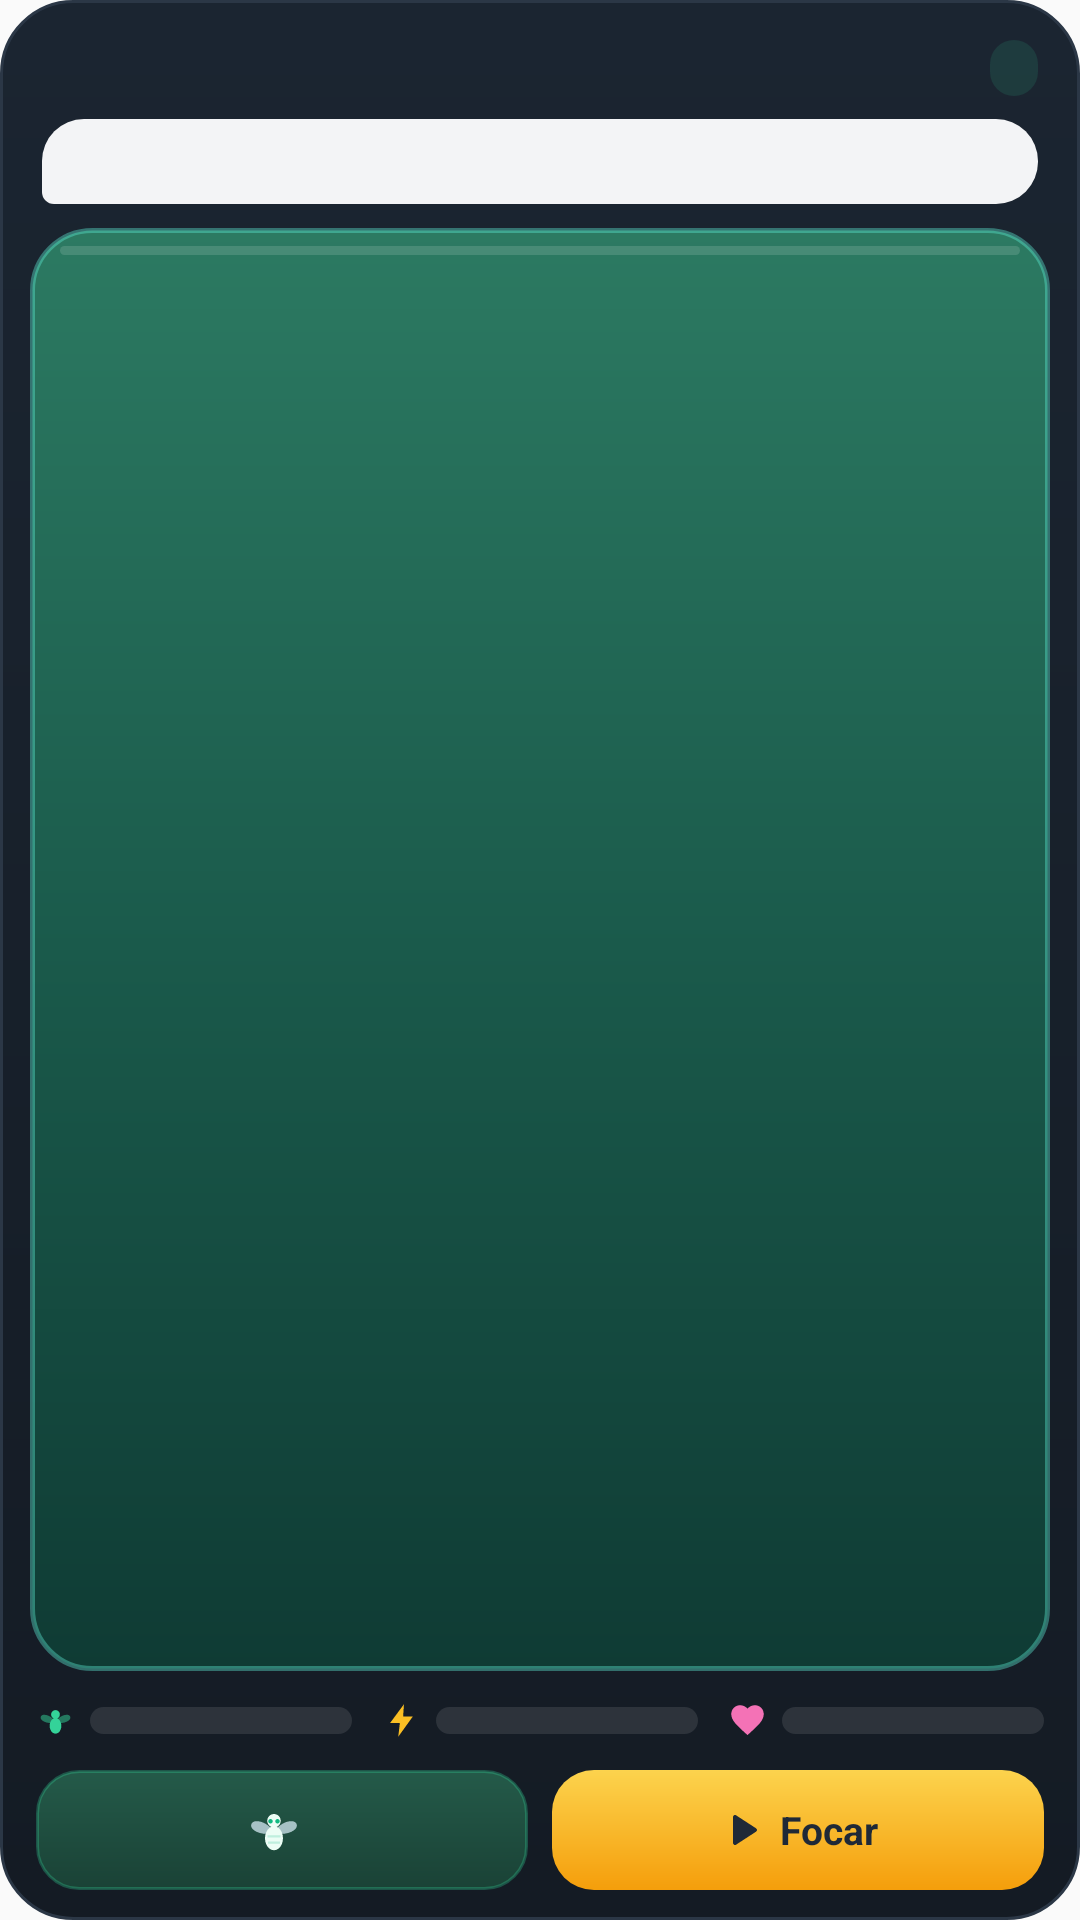

Icon bounding boxes for this 1080x1920 phone screenshot, format Rect(x1, y1, x2, y2):
bar energy: Rect(390, 1704, 413, 1737)
bar mood: Rect(731, 1705, 764, 1735)
widget fly: Rect(251, 1814, 297, 1851)
widget play: Rect(733, 1815, 757, 1845)
